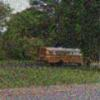buses: (39, 47, 83, 64)
